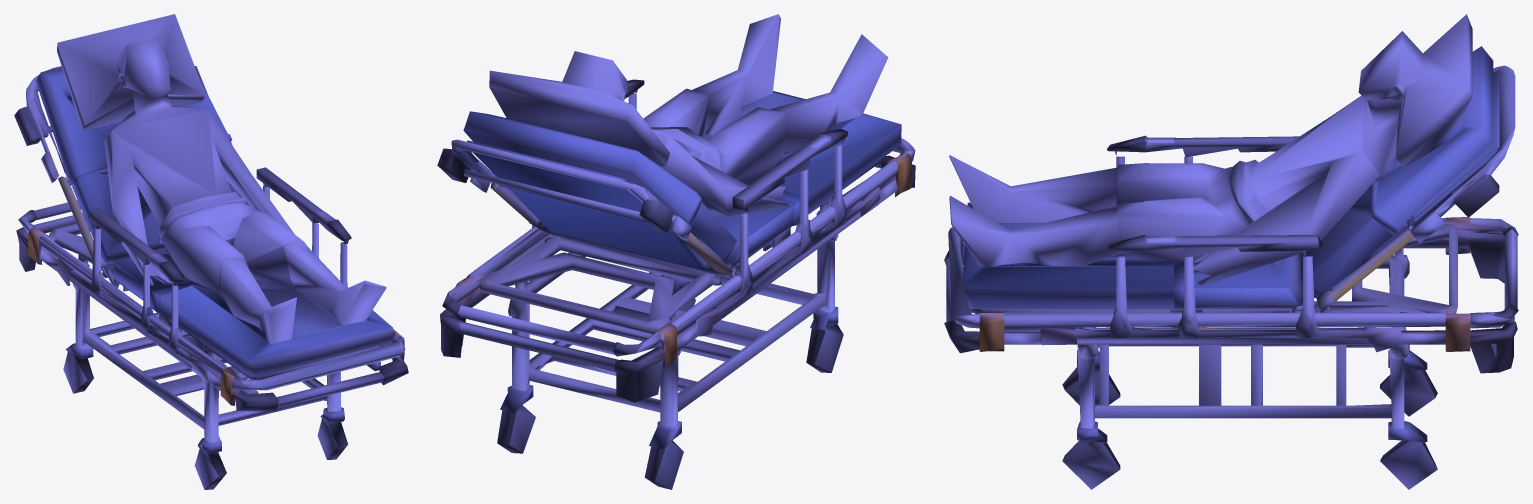
File: model.progressive.glb
3 views of the same model, side by side, from view 1: azimuth 30°, elevation 25°; view 2: azimuth 150°, elevation 25°; view 3: azimuth 270°, elevation 25° (orthographic). The views are drawn at different scales.
Parts seen in each view (by area): view 1: mesh_input; view 2: mesh_input; view 3: mesh_input.
Part boxes in pixels (box(x1,y1,x2,y2)): mesh_input: box(14, 14, 408, 489); mesh_input: box(437, 14, 915, 489); mesh_input: box(944, 14, 1518, 489).
Size of the model in its own units: 0.8281 by 1.5 by 1.9.
Materials: 1 (1 with a texture image).
